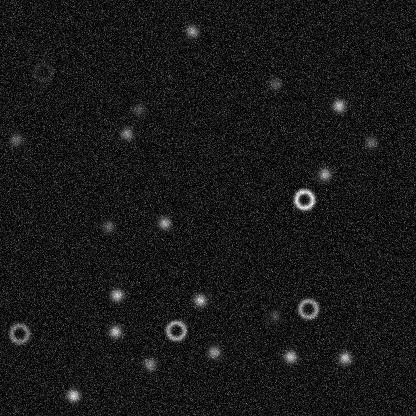Ring: (292, 187, 316, 211), (163, 318, 187, 342), (296, 296, 320, 320), (30, 59, 54, 83), (7, 321, 31, 345)
Spot: (156, 214, 172, 230), (330, 97, 346, 113), (192, 292, 208, 308), (362, 134, 378, 150), (118, 125, 134, 141), (266, 307, 282, 323), (130, 101, 146, 117), (100, 218, 116, 234), (206, 344, 222, 360), (107, 323, 123, 339), (282, 348, 298, 364), (184, 23, 200, 39), (108, 286, 124, 302), (65, 387, 81, 403), (336, 349, 352, 365), (141, 356, 157, 372), (267, 75, 283, 91), (316, 166, 332, 182), (8, 131, 24, 147)
